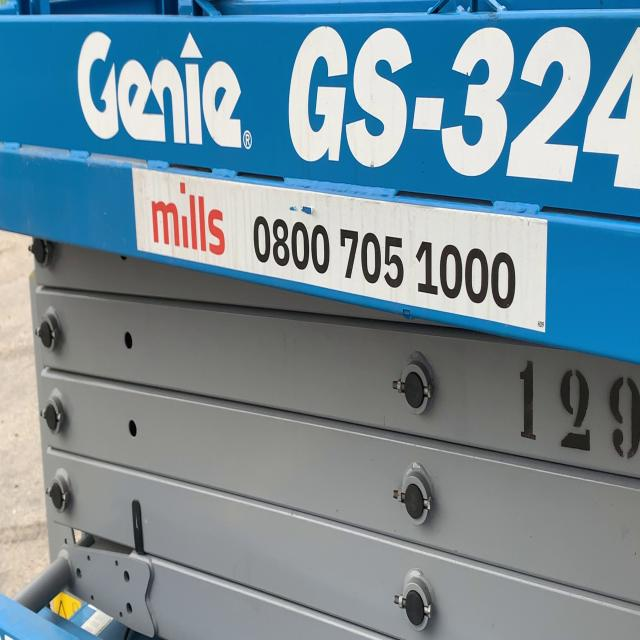Adesivo Longo: (127, 163, 551, 337)
